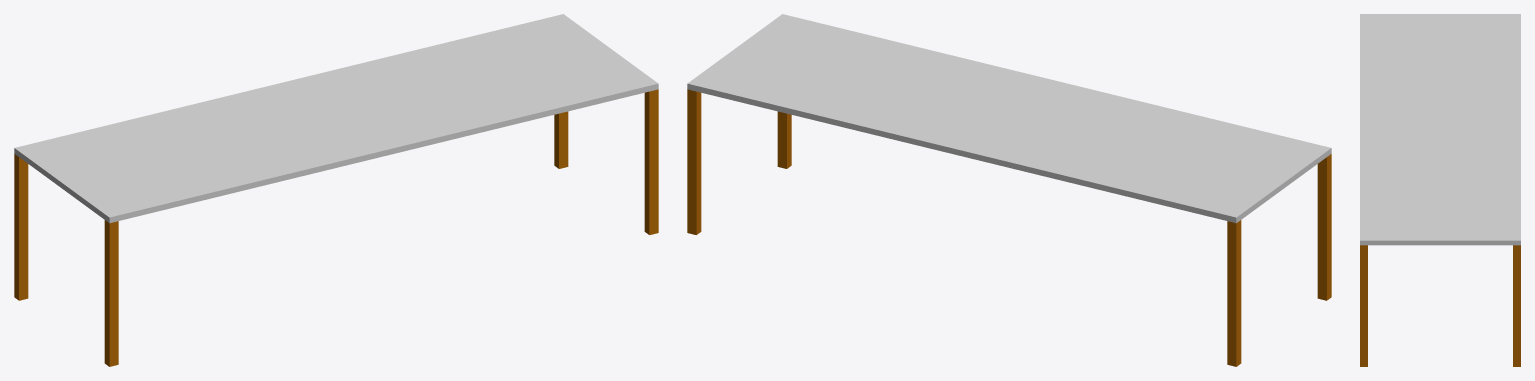
The model's file is longtable.fbx.
The picture shows the model from 3 angles, left to right: view 1: azimuth 30°, elevation 25°; view 2: azimuth 150°, elevation 25°; view 3: azimuth 270°, elevation 25°; orthographic projection. The views are drawn at different scales.
Parts seen in each view (by area): view 1: Cube; view 2: Cube; view 3: Cube.
Part boxes in pixels (x1,y1,x2,y2): Cube: (14,14,658,366); Cube: (687,14,1331,366); Cube: (1360,14,1520,366).
Bounding box in the file's own units: 2000 × 520 × 600.
